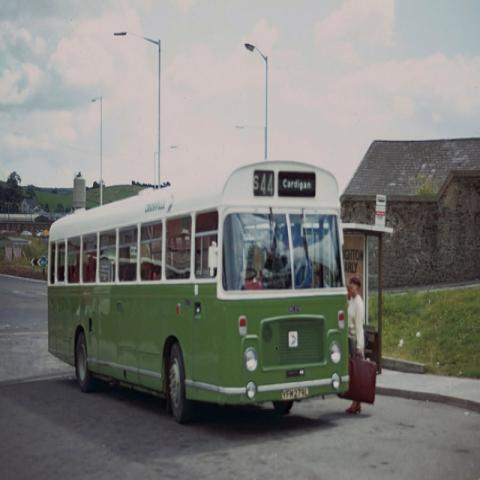bus: (44, 168, 352, 425)
